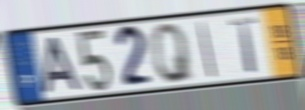2: (112, 23, 159, 93)
5: (74, 28, 113, 94)
A: (41, 35, 84, 96)
I: (197, 20, 218, 79)
Q: (149, 21, 197, 86)
T: (228, 15, 260, 76)
